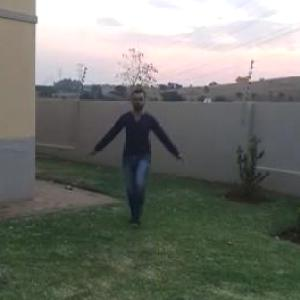land: (82, 83, 189, 249)
